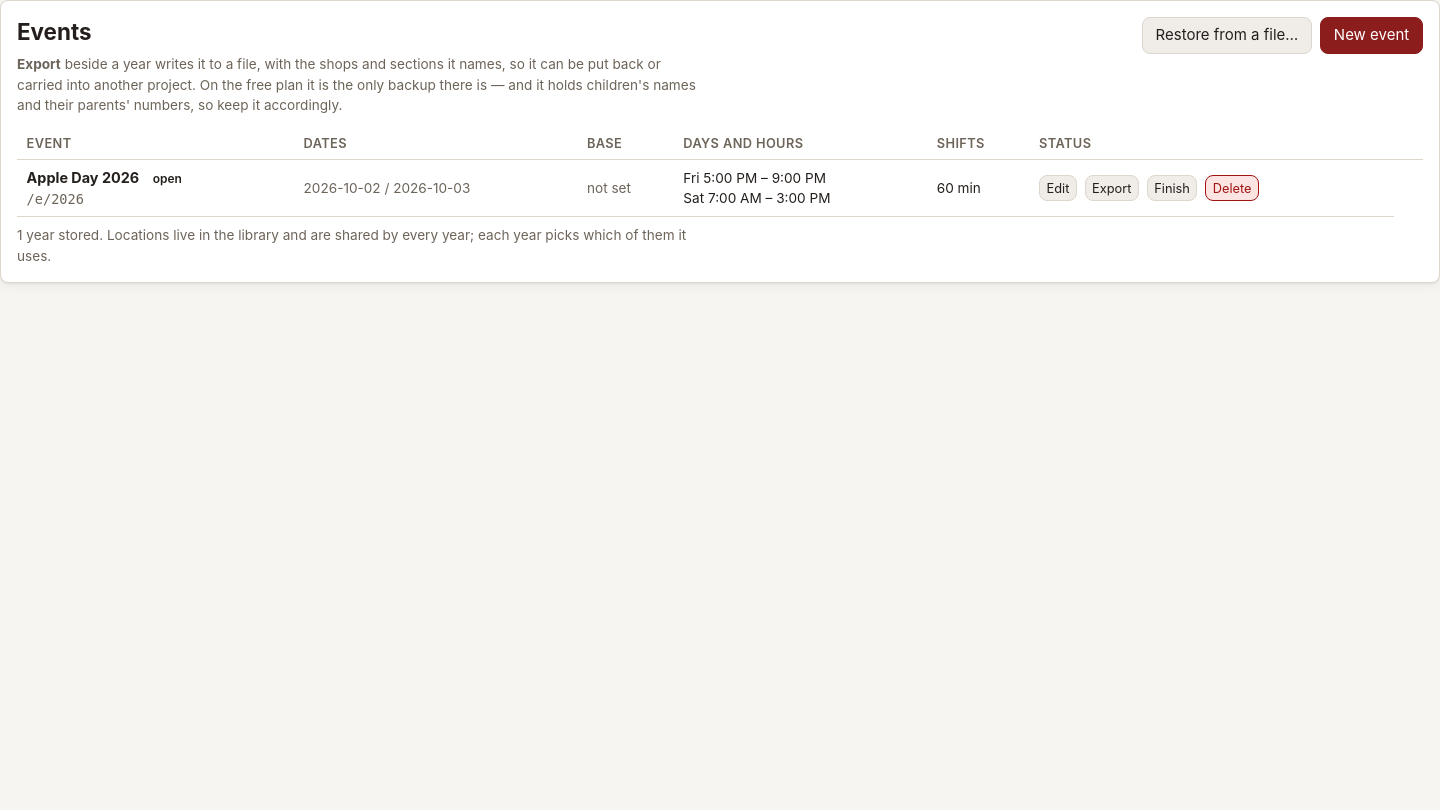
Test case: setting the hours › offers a clock, not a list of whole hours
This screenshot has width=1440, height=810.
Click the button "Edit". click: (1058, 188)
box: [1039,175,1077,201]
(page scrolled)
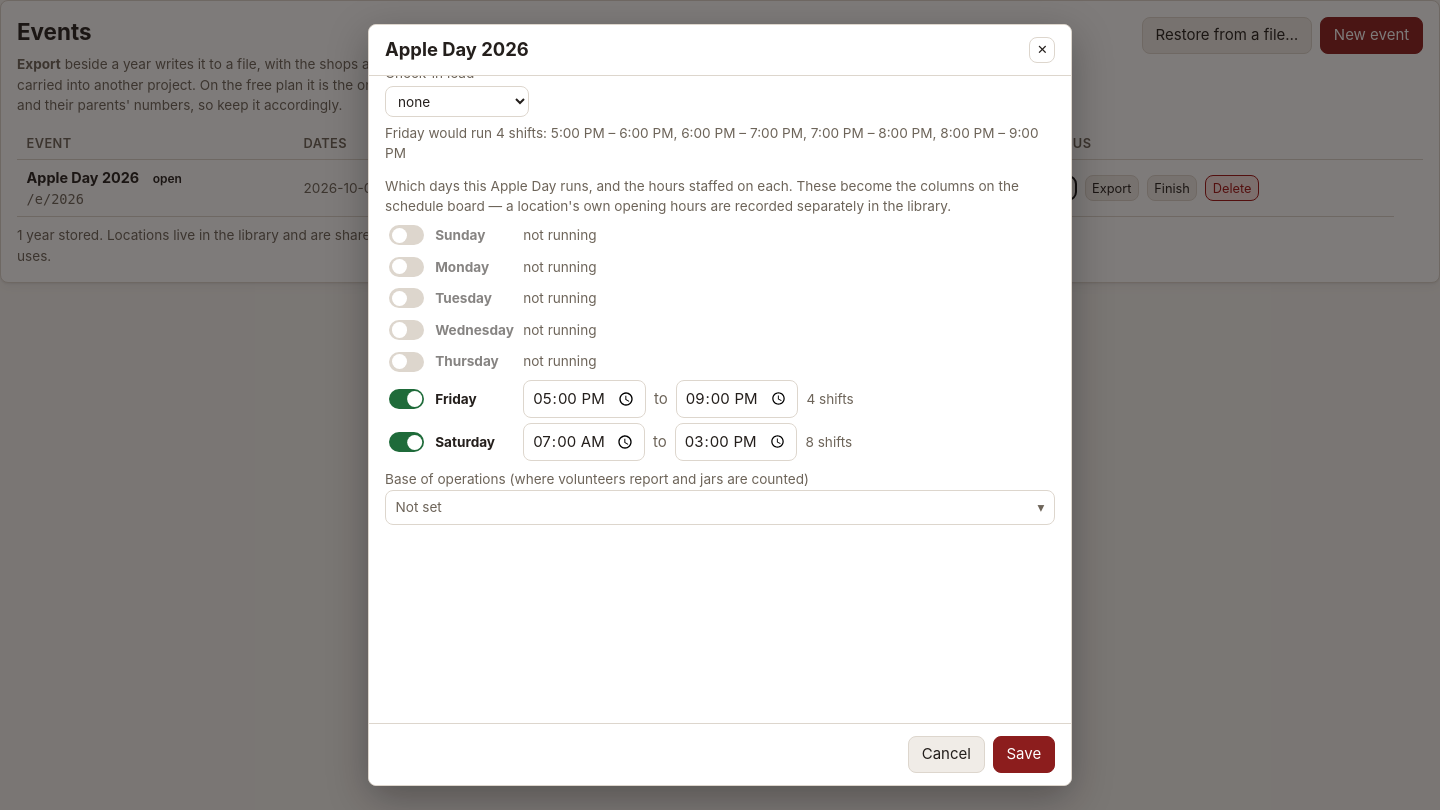
Now the time field named "Friday start" holds "17:00", box [523,380,646,418]
